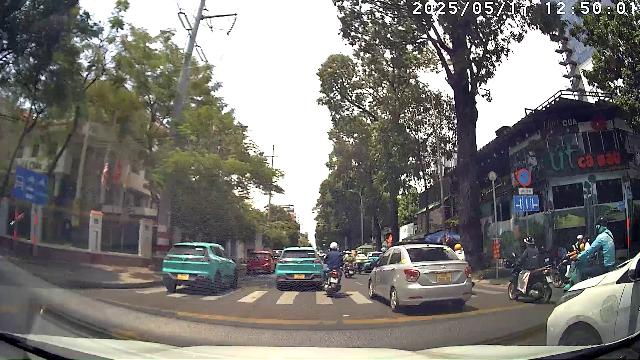131a-cam-do-xe: (516, 168, 532, 186)
